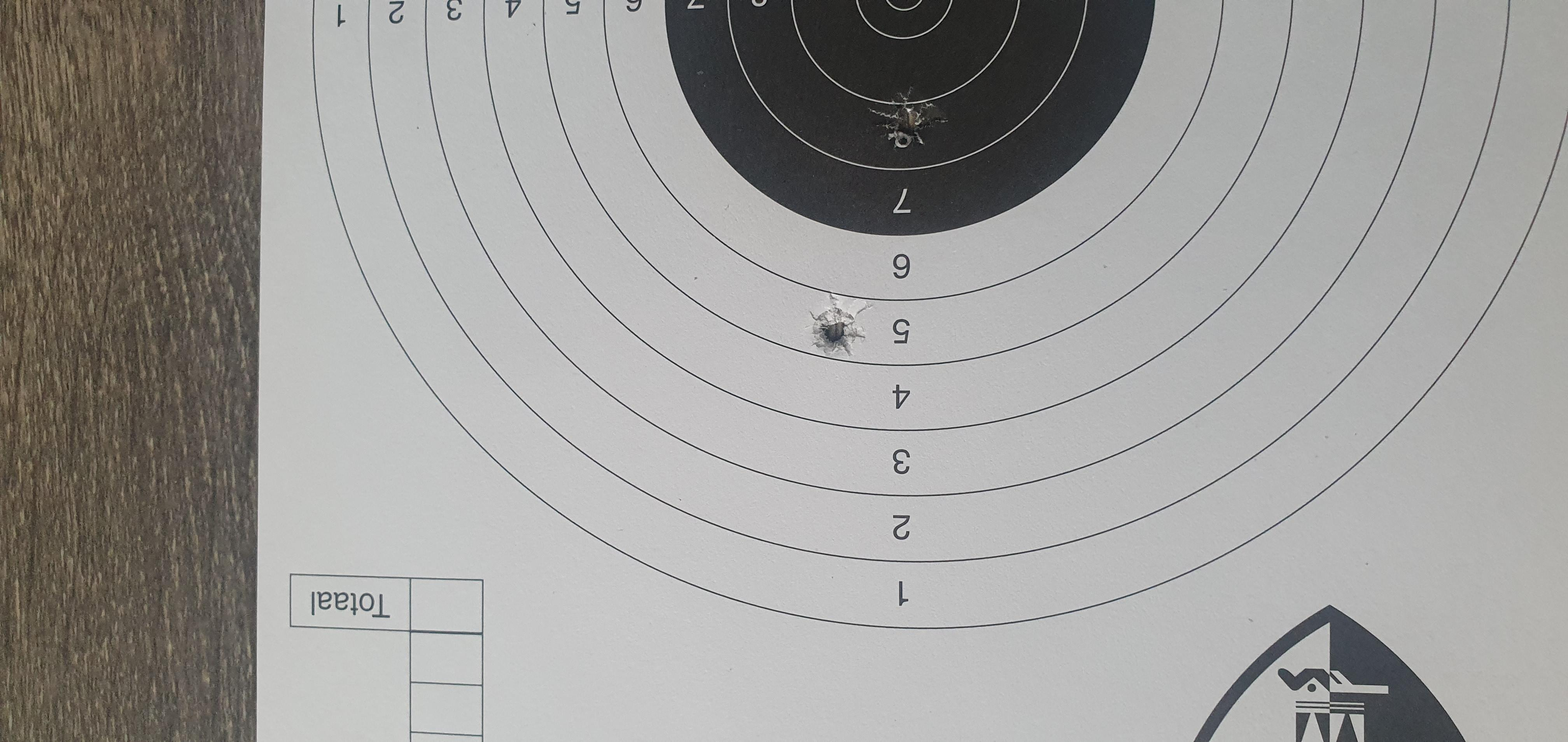hole: (808, 380, 953, 415), (1252, 411, 1381, 448)
